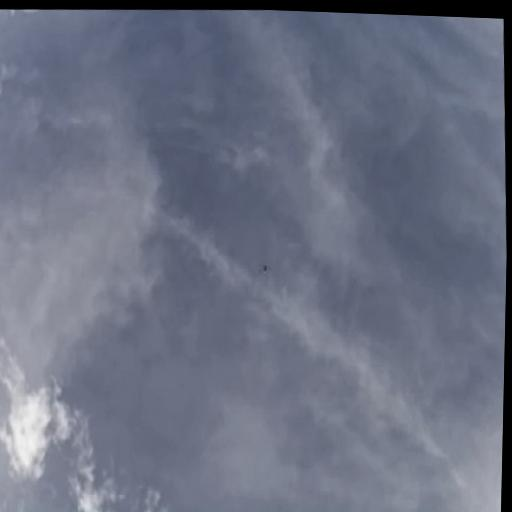drones: (254, 258, 273, 283)
